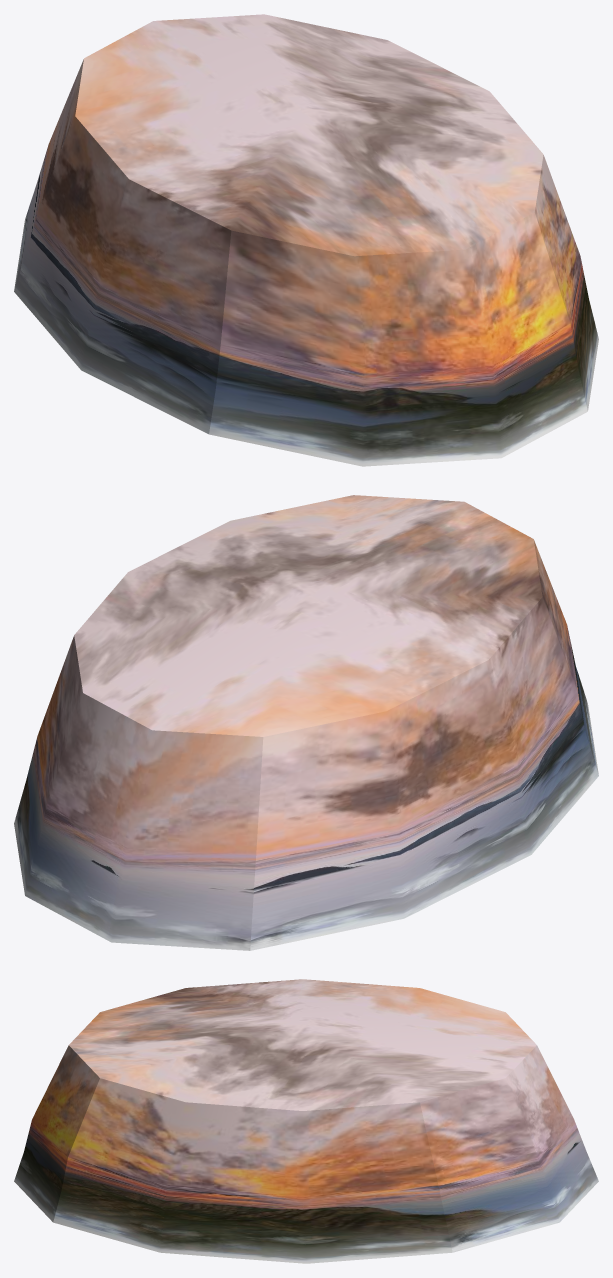
The model's file is gsctk.obj.
3 renders of one model, top to bottom at view 1: azimuth 30°, elevation 25°; view 2: azimuth 150°, elevation 25°; view 3: azimuth 270°, elevation 25°, orthographic. The views are drawn at different scales.
Parts seen in each view (by area): view 1: gsctk; view 2: gsctk; view 3: gsctk.
Part boxes in pixels (x1,y1,x2,y2): gsctk: [14, 14, 598, 466]; gsctk: [14, 495, 598, 950]; gsctk: [14, 979, 598, 1263].
Size of the model in its own units: 14711 by 6464 by 22068.
